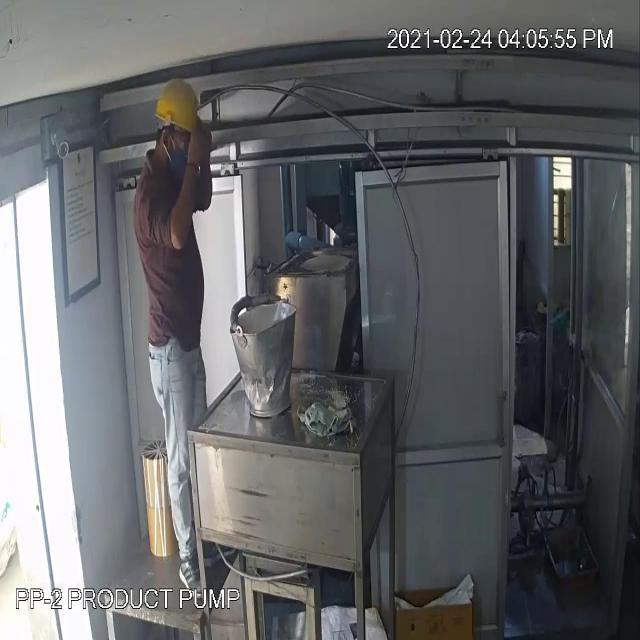hat: (152, 66, 211, 144)
